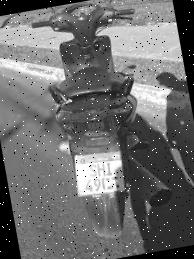placa_mercosul: (74, 151, 124, 195)
